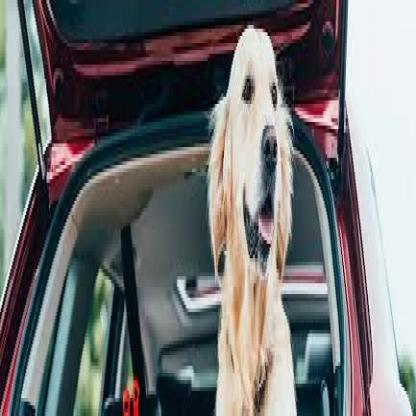dog: (204, 0, 298, 416)
